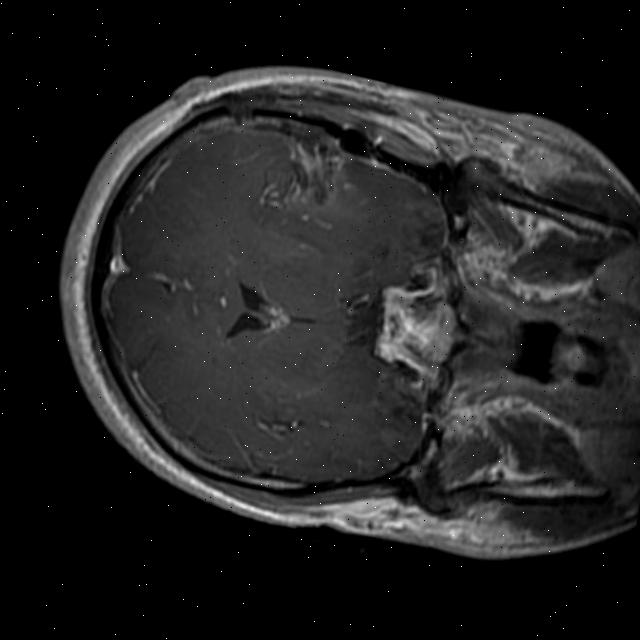Glioma: (252, 124, 353, 222)
Pituitary: (390, 292, 465, 367)
